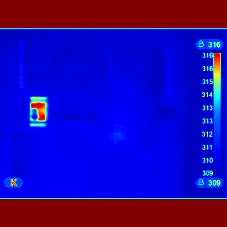High: (25, 97, 58, 135)
